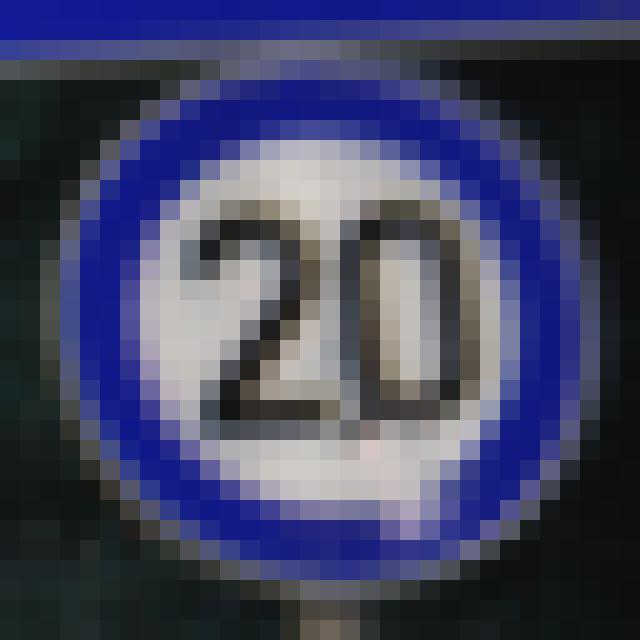SPEED LIMIT 20: (56, 77, 600, 584)
